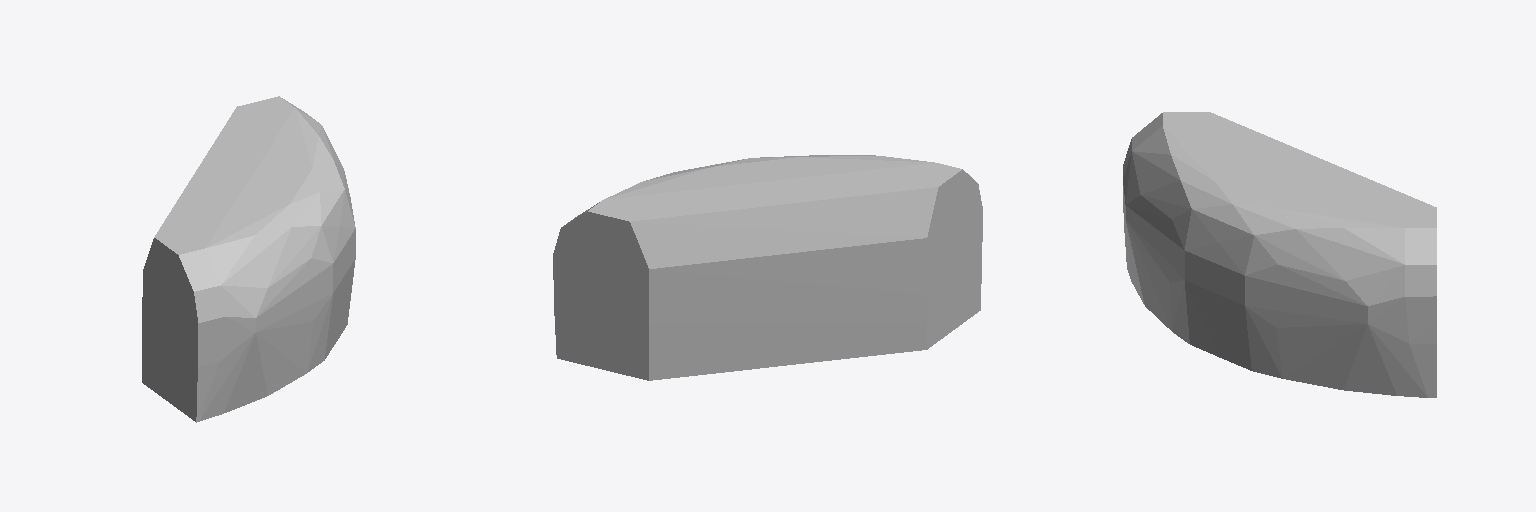
The model's file is Wine_Bottle_1_collision_2.obj.
The picture shows the model from 3 angles: view 1: azimuth 30°, elevation 25°; view 2: azimuth 150°, elevation 25°; view 3: azimuth 270°, elevation 25°; orthographic projection.
Size of the model in its own units: 0.0166 by 0.009 by 0.0166.